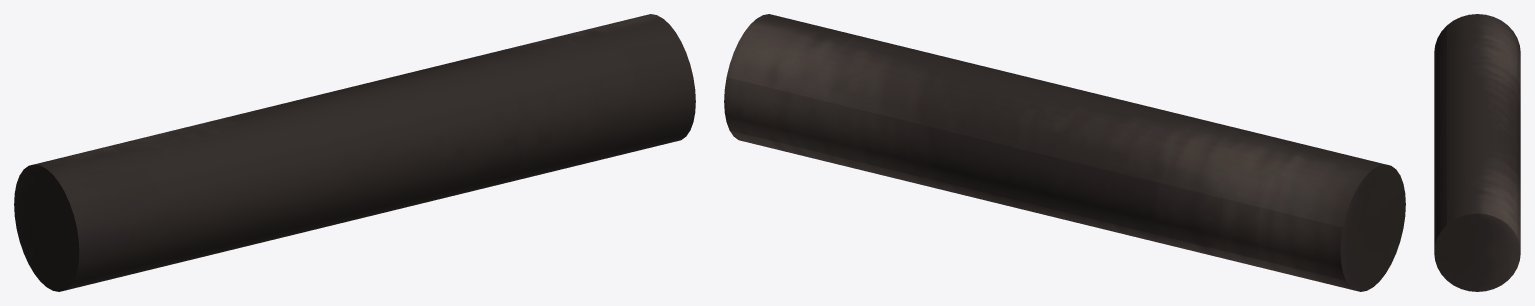
The model's file is support_arm__pivot_tube.glb.
3 renders of one model, left to right at view 1: azimuth 30°, elevation 25°; view 2: azimuth 150°, elevation 25°; view 3: azimuth 270°, elevation 25°, orthographic. The views are drawn at different scales.
Parts seen in each view (by area): view 1: world; view 2: world; view 3: world.
Boxes of the visible parts, left/top/right/bottom form: world: left=14, top=14, right=695, bottom=291; world: left=724, top=14, right=1405, bottom=291; world: left=1434, top=14, right=1520, bottom=291.
Size of the model in its own units: 0.24 by 0.044 by 0.044.
1 material, 1 textured.
